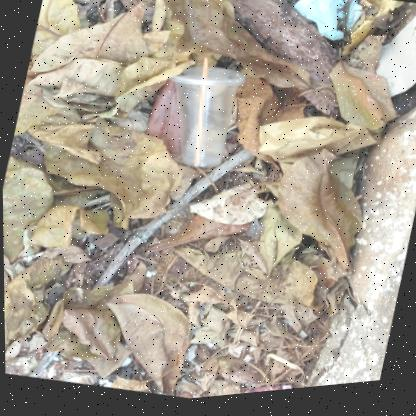Paper: (258, 122, 375, 178), (375, 22, 416, 104), (293, 0, 362, 46), (241, 390, 290, 398)
Plastic: (168, 70, 244, 170), (168, 70, 244, 90), (193, 61, 207, 169)
Waste: (358, 5, 373, 16)
